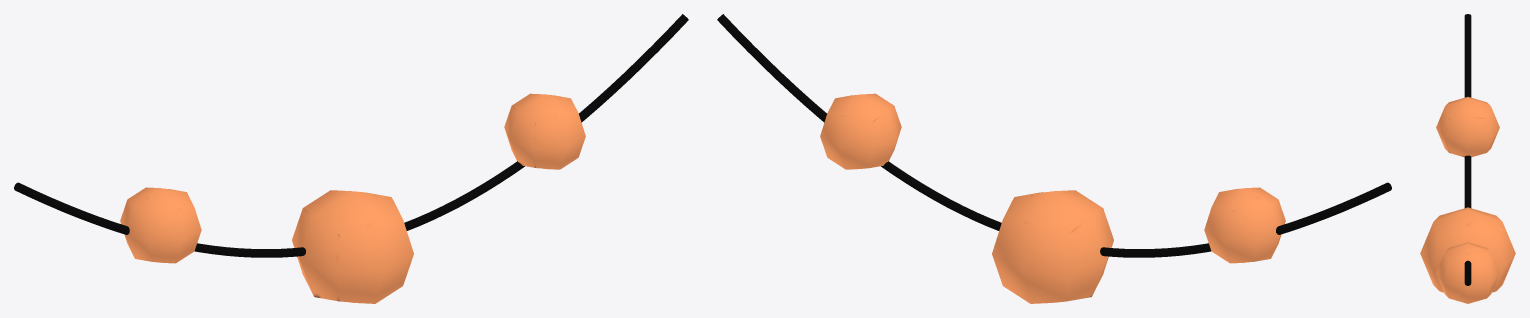
The model's file is dec_lights.glb.
The picture shows the model from 3 angles, left to right: view 1: azimuth 30°, elevation 25°; view 2: azimuth 150°, elevation 25°; view 3: azimuth 270°, elevation 25°; orthographic projection. The views are drawn at different scales.
Parts seen in each view (by area): view 1: Cube; view 2: Cube; view 3: Cube.
Boxes of the visible parts, x1,y1,x2,y2 form: Cube: (14, 14, 688, 303); Cube: (717, 14, 1391, 303); Cube: (1420, 14, 1515, 303).
Size of the model in its own units: 10.59 by 3.12 by 1.68.
1 material, 1 textured.
